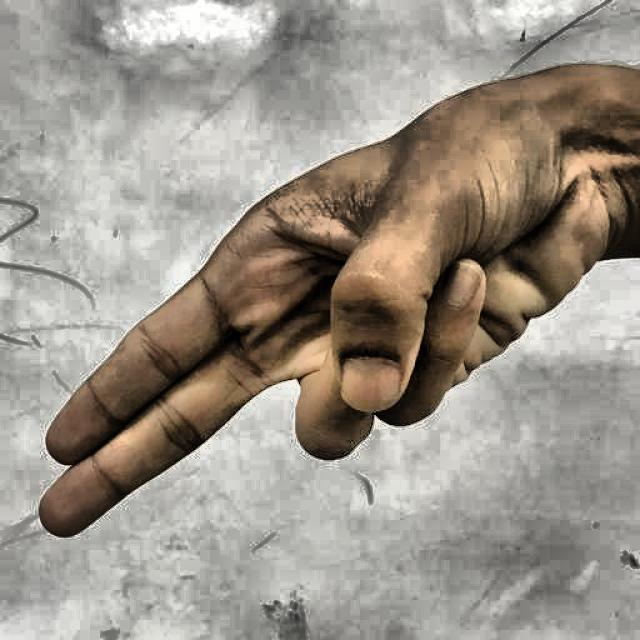Ha: (27, 59, 597, 601)
